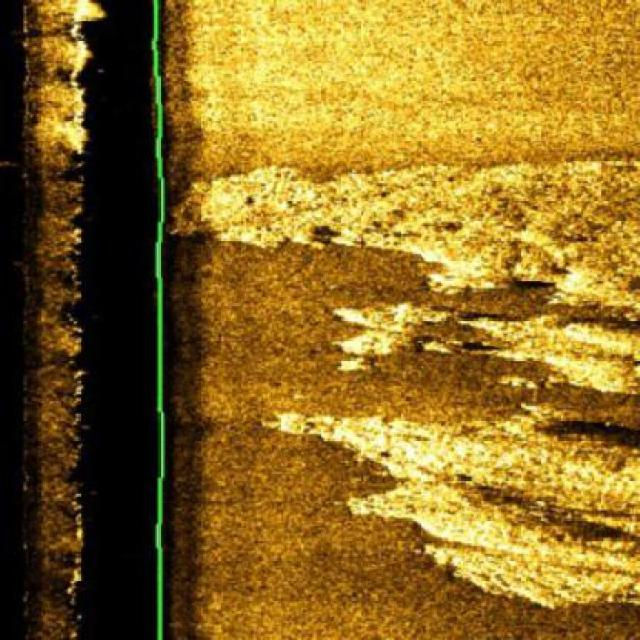bedrock group: (172, 157, 639, 608)
